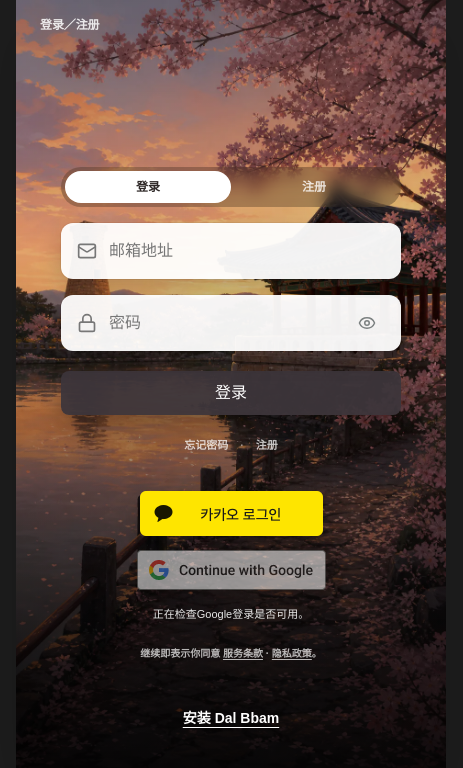
signup consent form › renders unchecked required consent controls and policy links in zh
This screenshot has width=463, height=768.
Step 1. Click the 1st button "注册" → (314, 187), box [231,171,397,203]
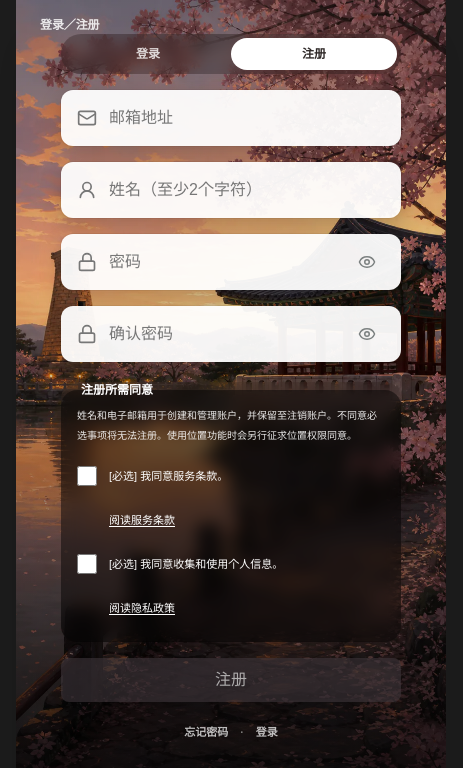
Now the checkbox labelled "[必选] 我同意服务条款。" is not checked, box [77,466,97,486]
Now the checkbox labelled "[必选] 我同意收集和使用个人信息。" is not checked, box [77,554,97,574]
